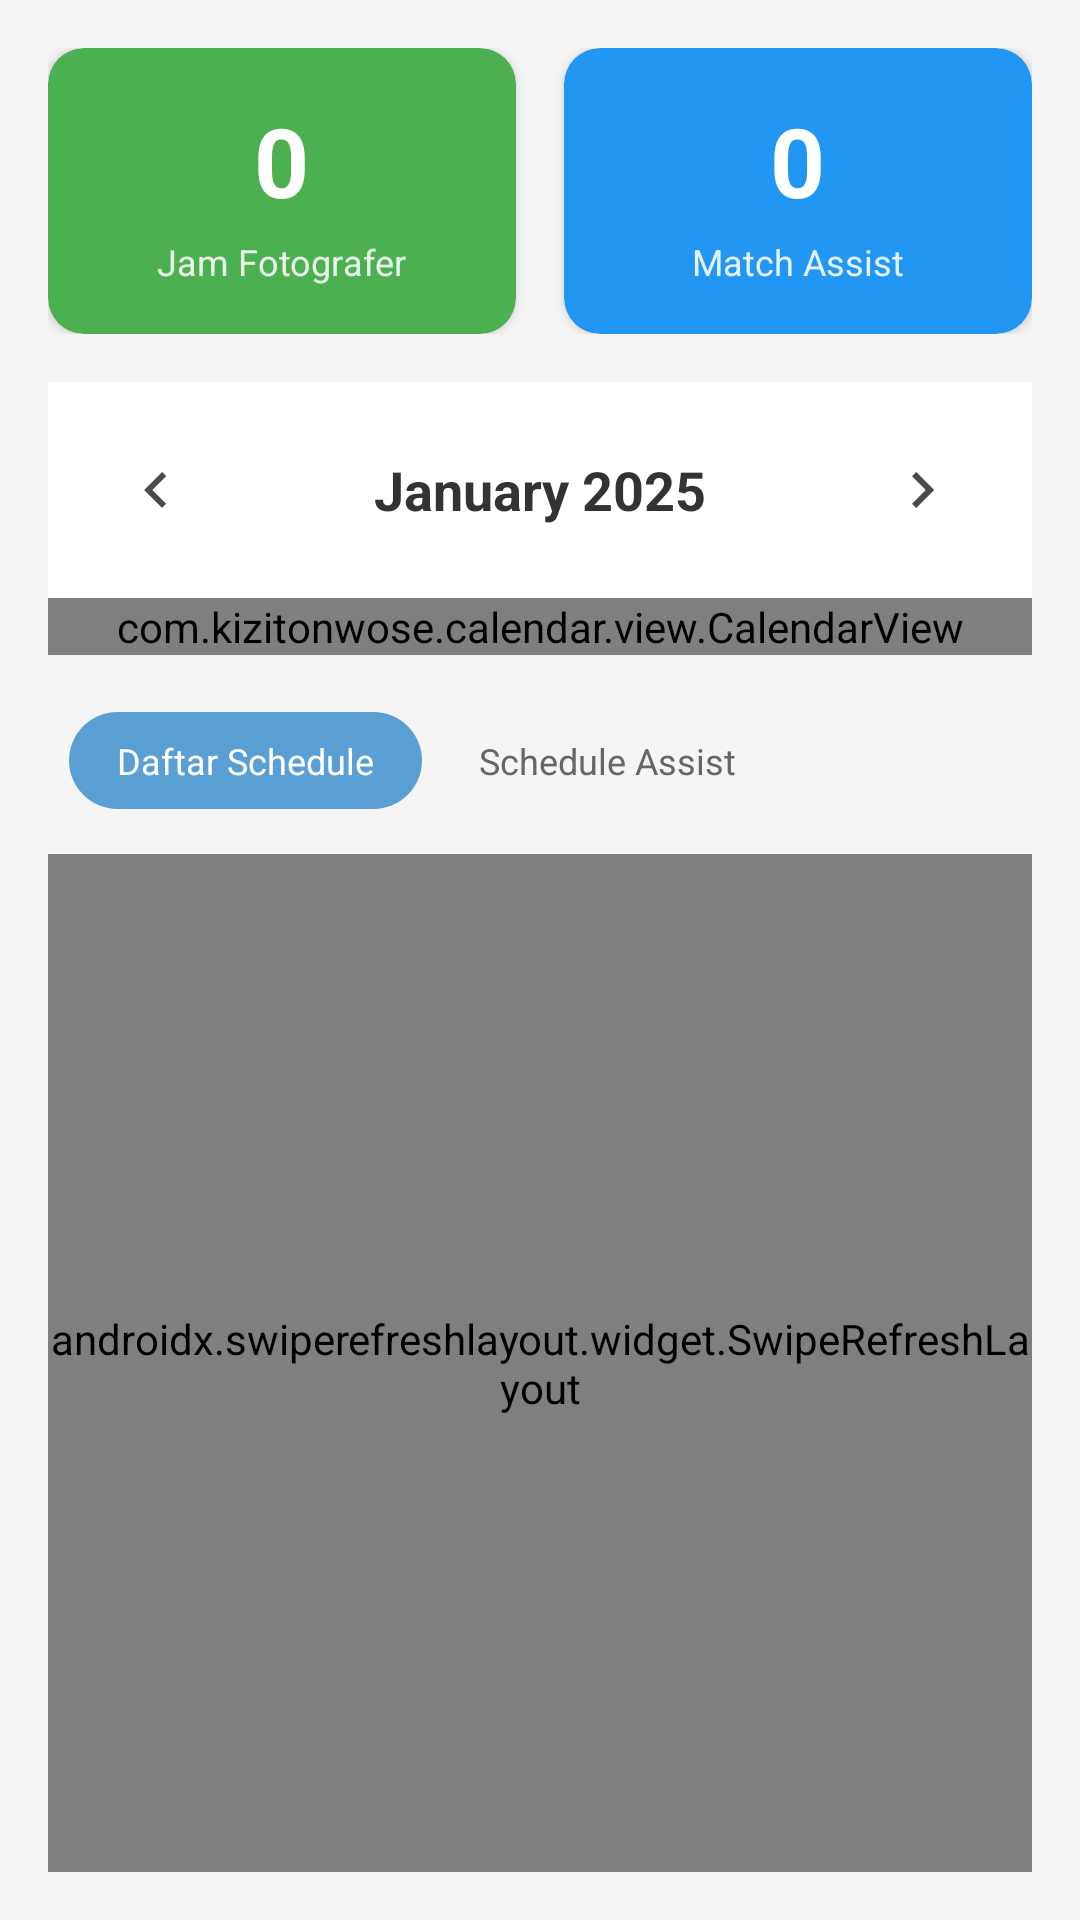

Where to tap for icons on this 1080w x 1920h app screen, as point (x, y):
Next Month: point (923, 490)
Previous Month: point (155, 490)
